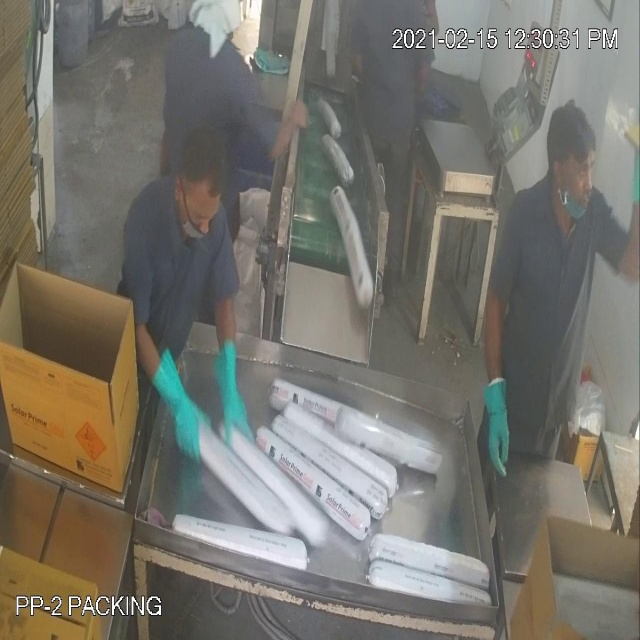Guantes: (142, 333, 213, 469), (478, 320, 530, 496), (207, 322, 260, 463)
Sin_guantes: (264, 90, 327, 176)
